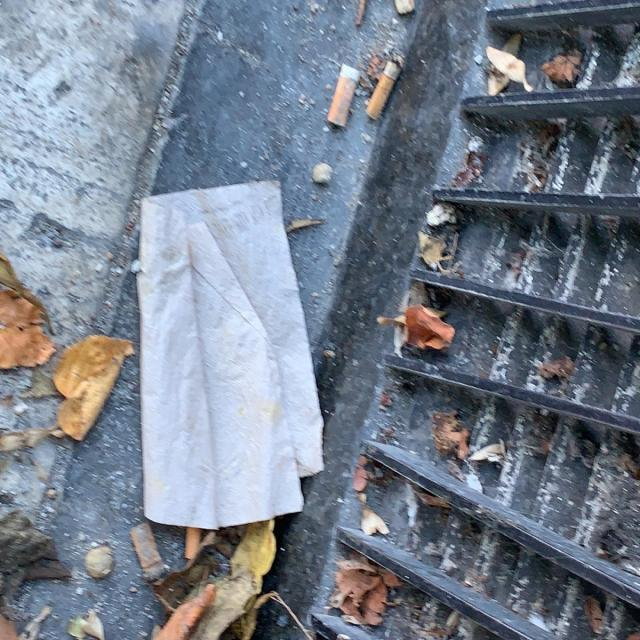Paper: (134, 177, 326, 531)
